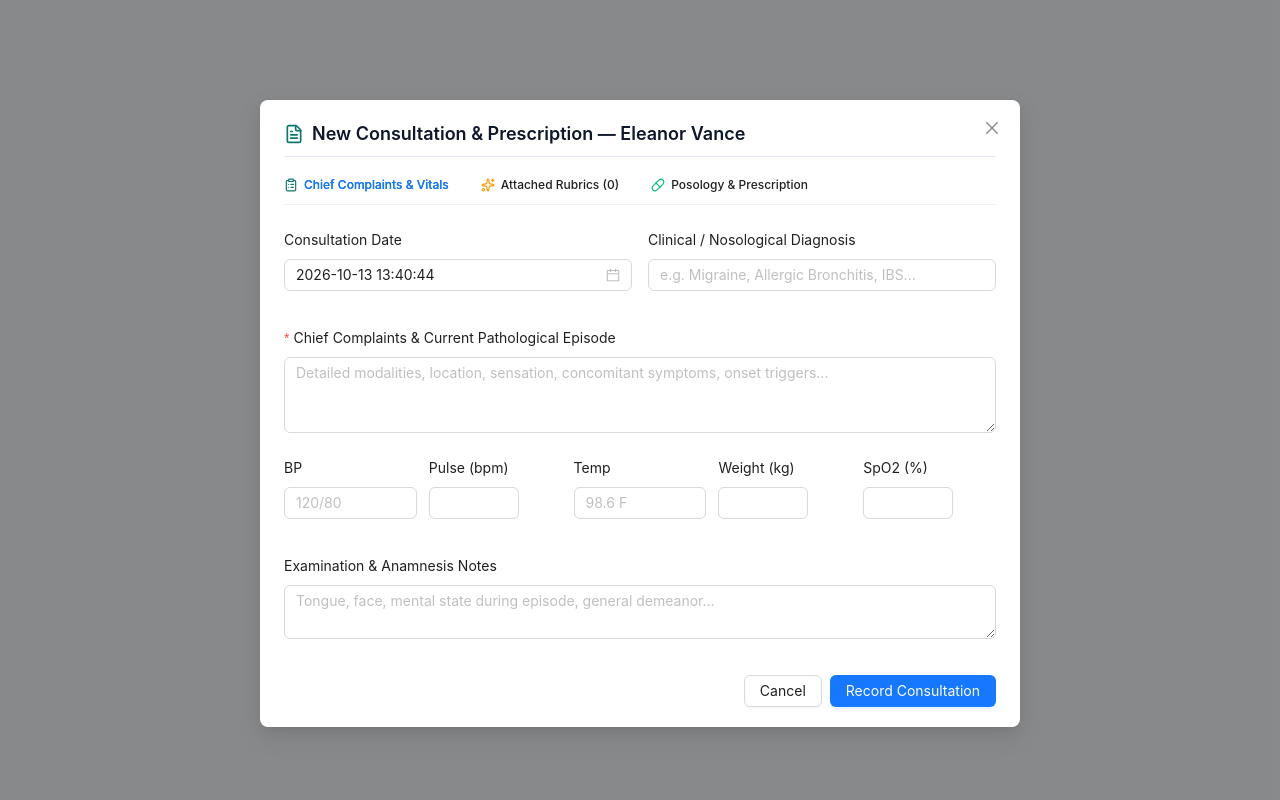
Test: NewConsultationModal Component › snapshots rubrics from repertory case clipboard
Click the tab "Attached Rubrics (0)". click: (550, 185)
box: top-left (481, 177), bottom-right (619, 193)
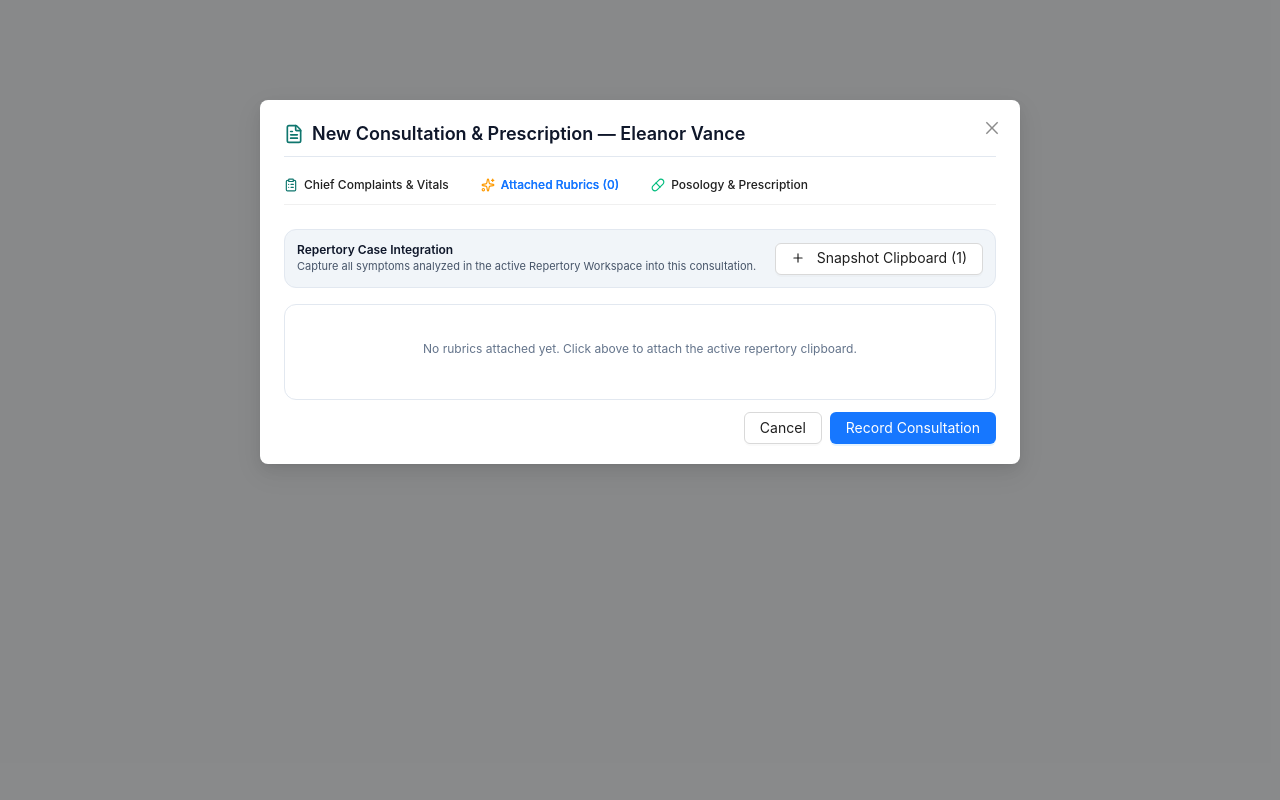
Click the button "Snapshot Clipboard (1)". click: (879, 259)
box: top-left (775, 243), bottom-right (983, 275)
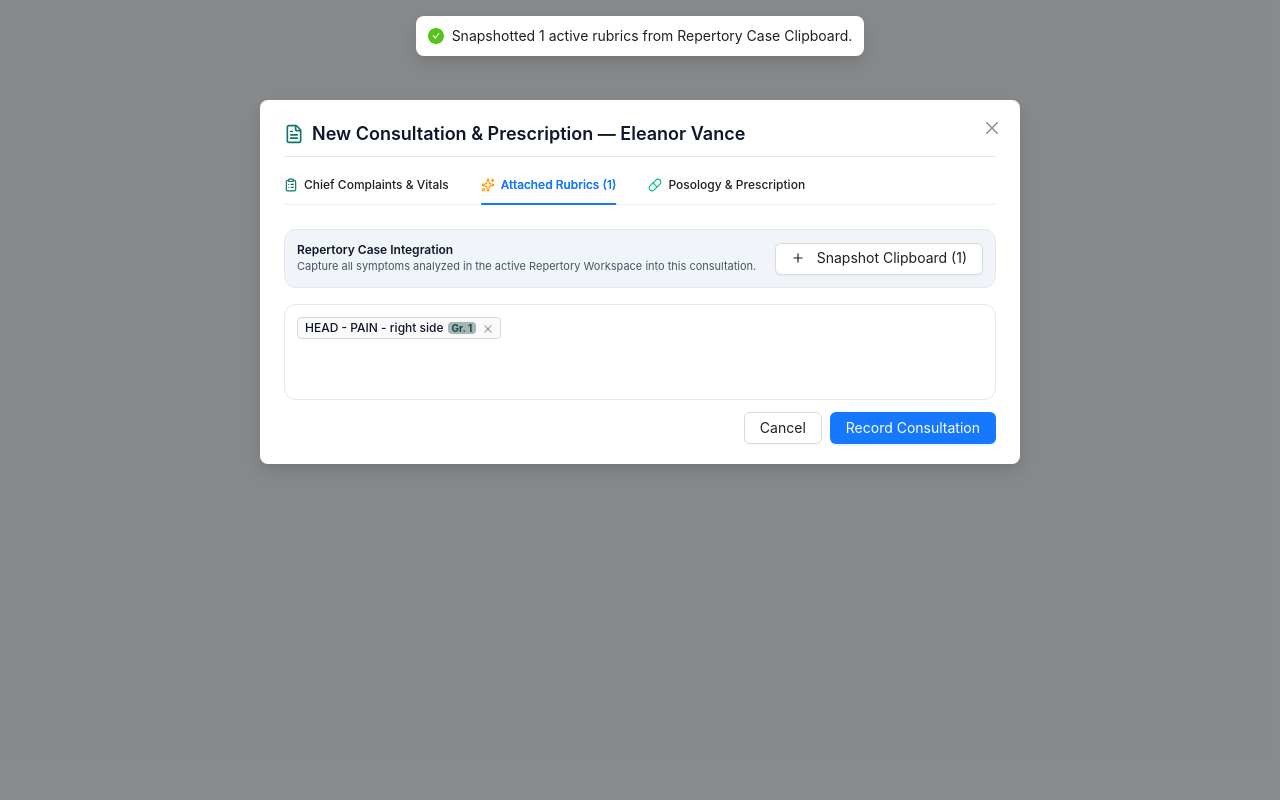
Now the text "HEAD - PAIN - right side" is shown, box top-left (305, 320), bottom-right (444, 335)
